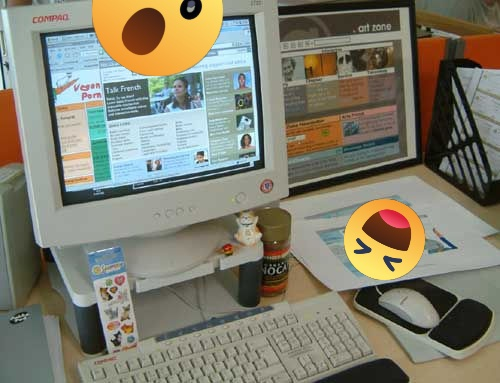haha: (344, 199, 425, 280)
wow: (92, 0, 223, 76)
